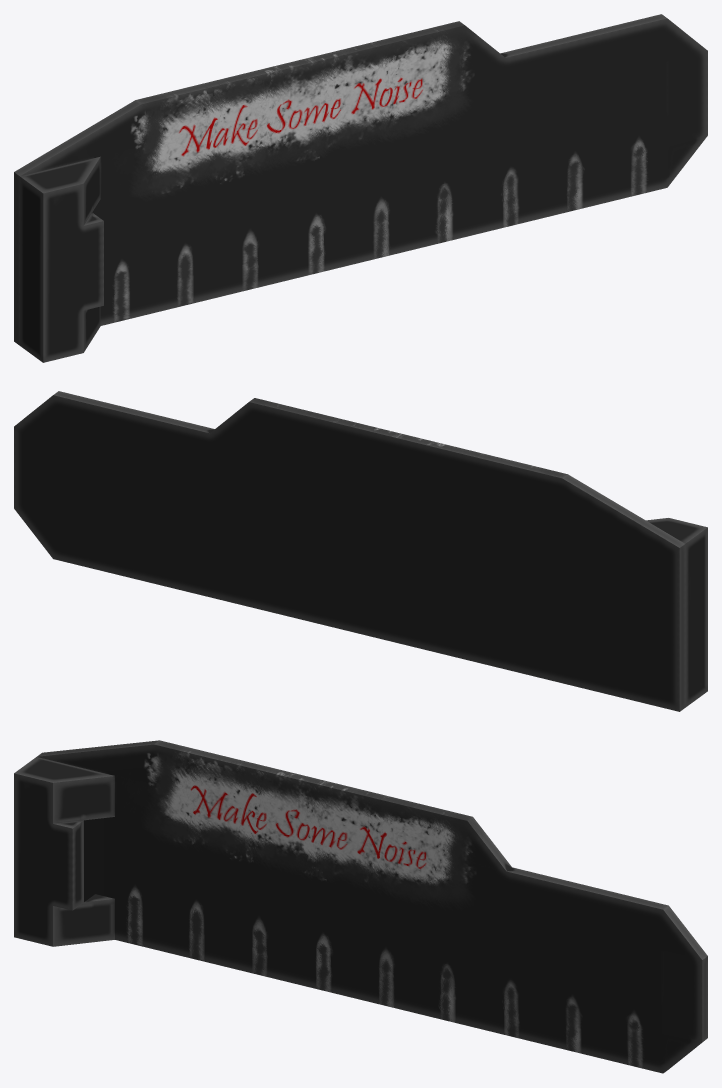
File: meter-plastic.fbx
The picture shows the model from 3 angles, top to bottom: view 1: azimuth 30°, elevation 25°; view 2: azimuth 150°, elevation 25°; view 3: azimuth 330°, elevation 25°; orthographic projection. The views are drawn at different scales.
Visible parts, largest first — view 1: Plane; view 2: Plane; view 3: Plane.
Part boxes in pixels (box(x1,y1,x2,y2)): Plane: box(14, 14, 707, 362); Plane: box(14, 391, 707, 711); Plane: box(14, 740, 707, 1073).
Bounding box in the file's own units: 213 × 62.5 × 15.63.
1 material, 1 textured.
